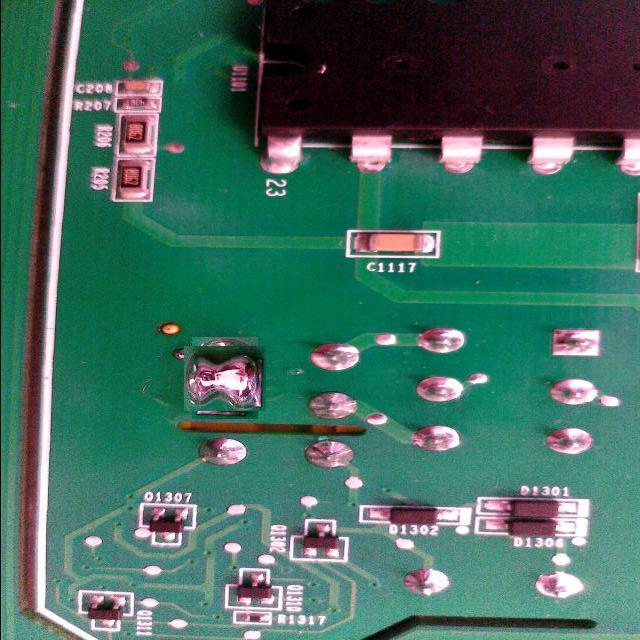Short_circuit: (188, 341, 262, 415)
